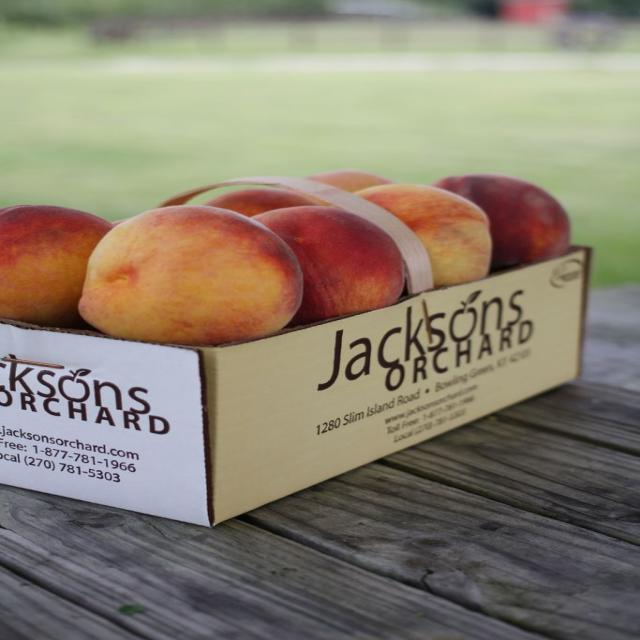Peach: (0, 166, 578, 346)
